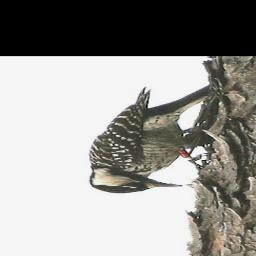Woodpecker: (88, 84, 220, 194)
